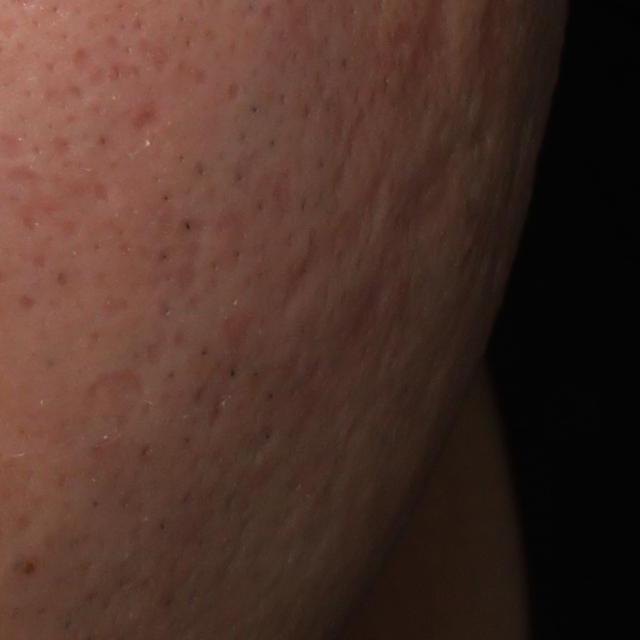atrophic_scar: (274, 229, 326, 309), (350, 259, 394, 344), (91, 365, 153, 424), (363, 160, 399, 231), (123, 94, 168, 132)
